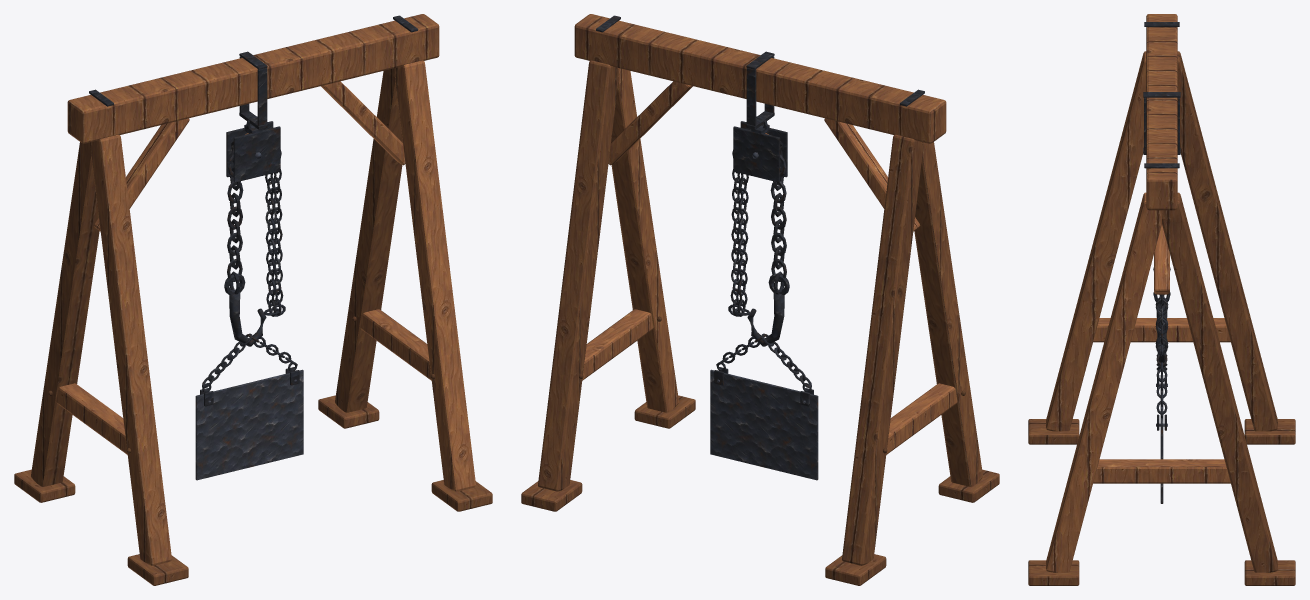
File: hw_chain_hoist.glb
3 renders of one model, left to right at view 1: azimuth 30°, elevation 25°; view 2: azimuth 150°, elevation 25°; view 3: azimuth 270°, elevation 25°, orthographic. The views are drawn at different scales.
Parts seen in each view (by area): view 1: model; view 2: model; view 3: model.
Part boxes in pixels (x1,y1,x2,y2): model: (14, 14, 492, 585); model: (521, 14, 999, 585); model: (1028, 14, 1295, 585).
Bounding box in the file's own units: 2 × 2.32 × 1.36.
7 materials, 7 textured.
